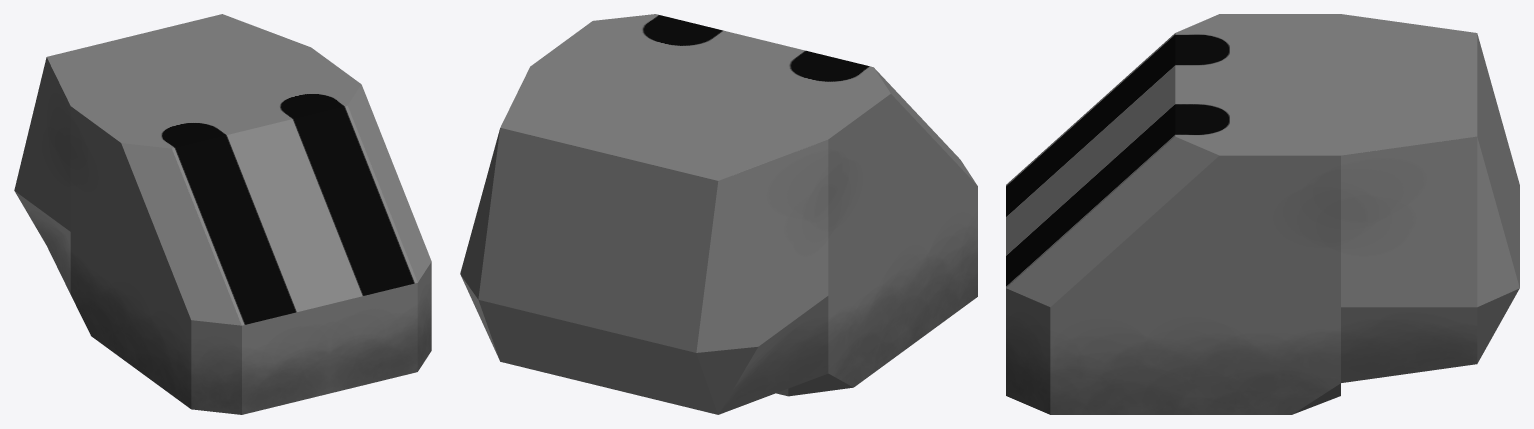
Rendered from Medium_AA_MOUNT.fbx.
The picture shows the model from 3 angles, left to right: view 1: azimuth 30°, elevation 25°; view 2: azimuth 150°, elevation 25°; view 3: azimuth 270°, elevation 25°; orthographic projection. The views are drawn at different scales.
Parts seen in each view (by area): view 1: TB; view 2: TB; view 3: TB.
Part boxes in pixels (x1,y1,x2,y2): TB: (14, 14, 431, 414); TB: (460, 14, 977, 414); TB: (1006, 14, 1519, 414).
Size of the model in its own units: 23.05 by 19.7 by 35.35.
1 material, 1 textured.
